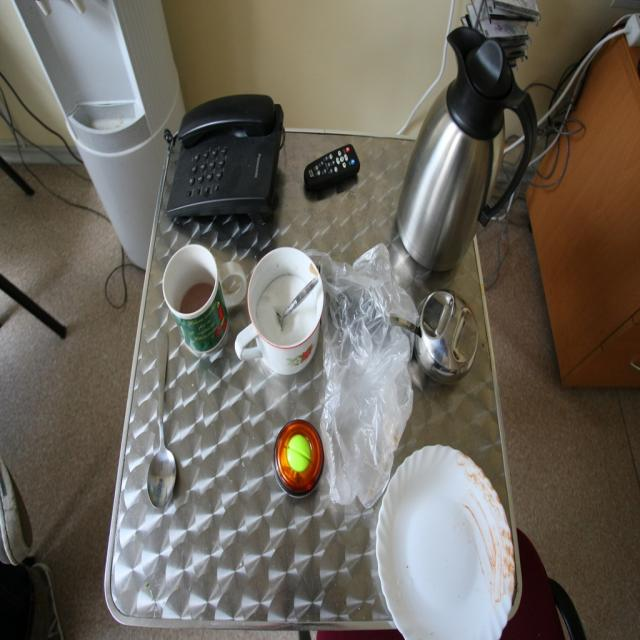Tea: (180, 284, 214, 312)
